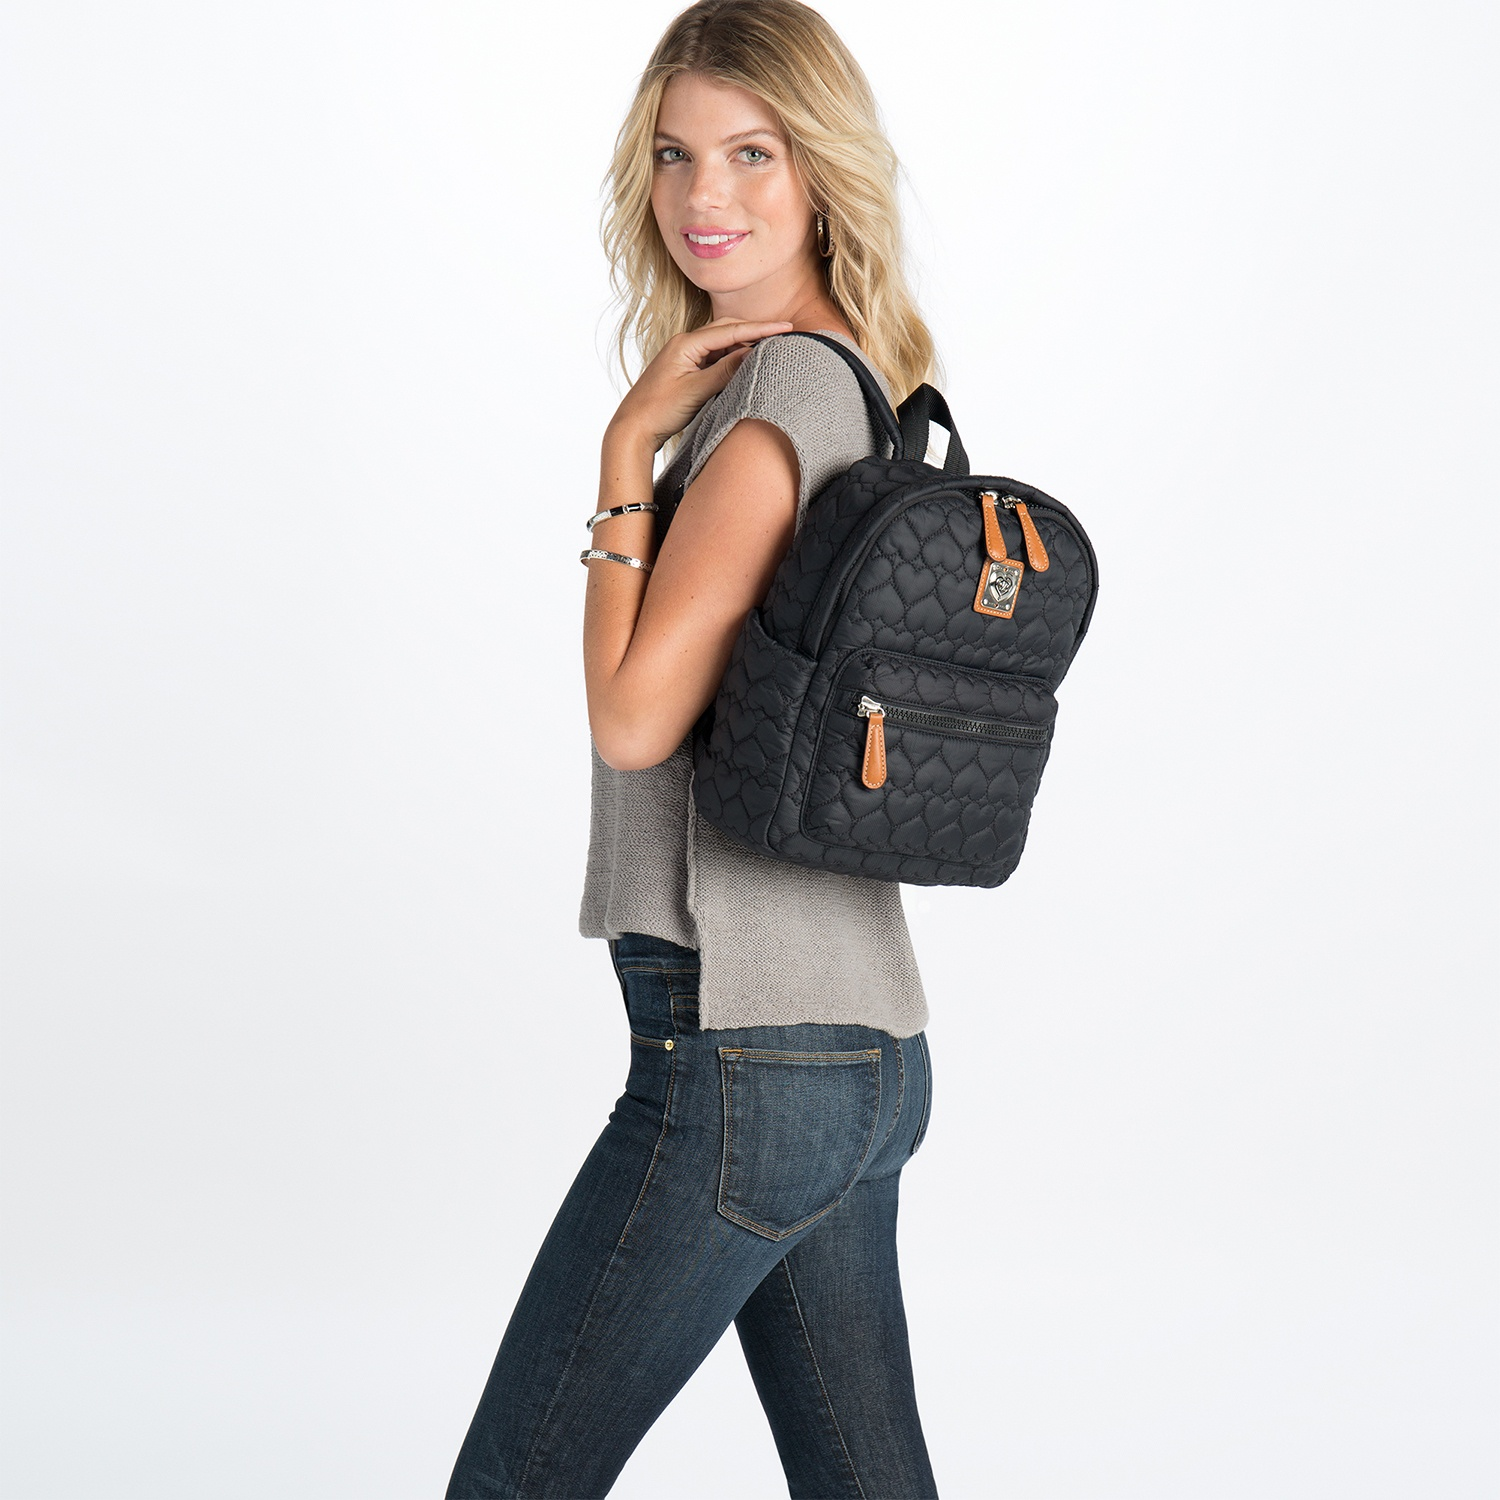bag: (689, 372, 1113, 907)
people: (476, 2, 971, 1486)
